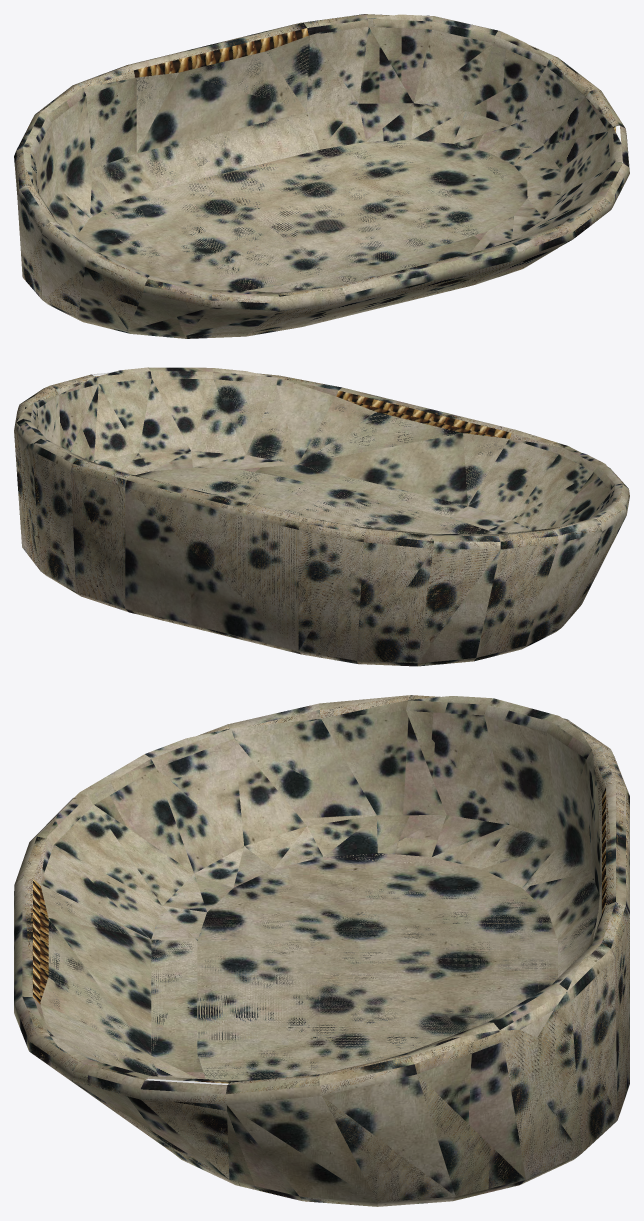
The model's file is CAMITA1.glb.
3 renders of one model, top to bottom at view 1: azimuth 30°, elevation 25°; view 2: azimuth 150°, elevation 25°; view 3: azimuth 270°, elevation 25°, orthographic. The views are drawn at different scales.
Parts seen in each view (by area): view 1: SketchUp, SketchUp.001; view 2: SketchUp, SketchUp.001; view 3: SketchUp, SketchUp.001.
Boxes of the visible parts, bbox=[...] form: SketchUp: bbox=[14, 14, 629, 338]; SketchUp.001: bbox=[14, 15, 626, 338]; SketchUp: bbox=[14, 367, 629, 666]; SketchUp.001: bbox=[15, 374, 629, 665]; SketchUp: bbox=[14, 695, 629, 1206]; SketchUp.001: bbox=[19, 695, 629, 1206].
Size of the model in its own units: 0.761 by 0.1766 by 0.5175.
3 materials, 2 textured.
